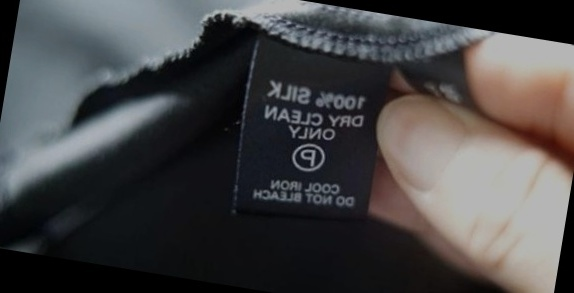dry_clean_any_solvent_except_trichloroethylene: (288, 139, 327, 174)
